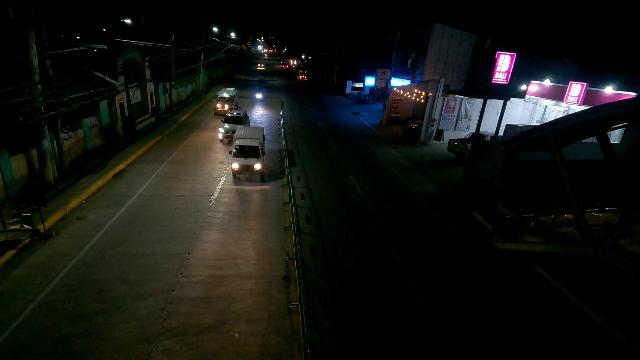car: (218, 109, 251, 141)
jeepney: (213, 87, 238, 115)
motorcycle: (254, 85, 264, 103)
van: (230, 125, 266, 179)
